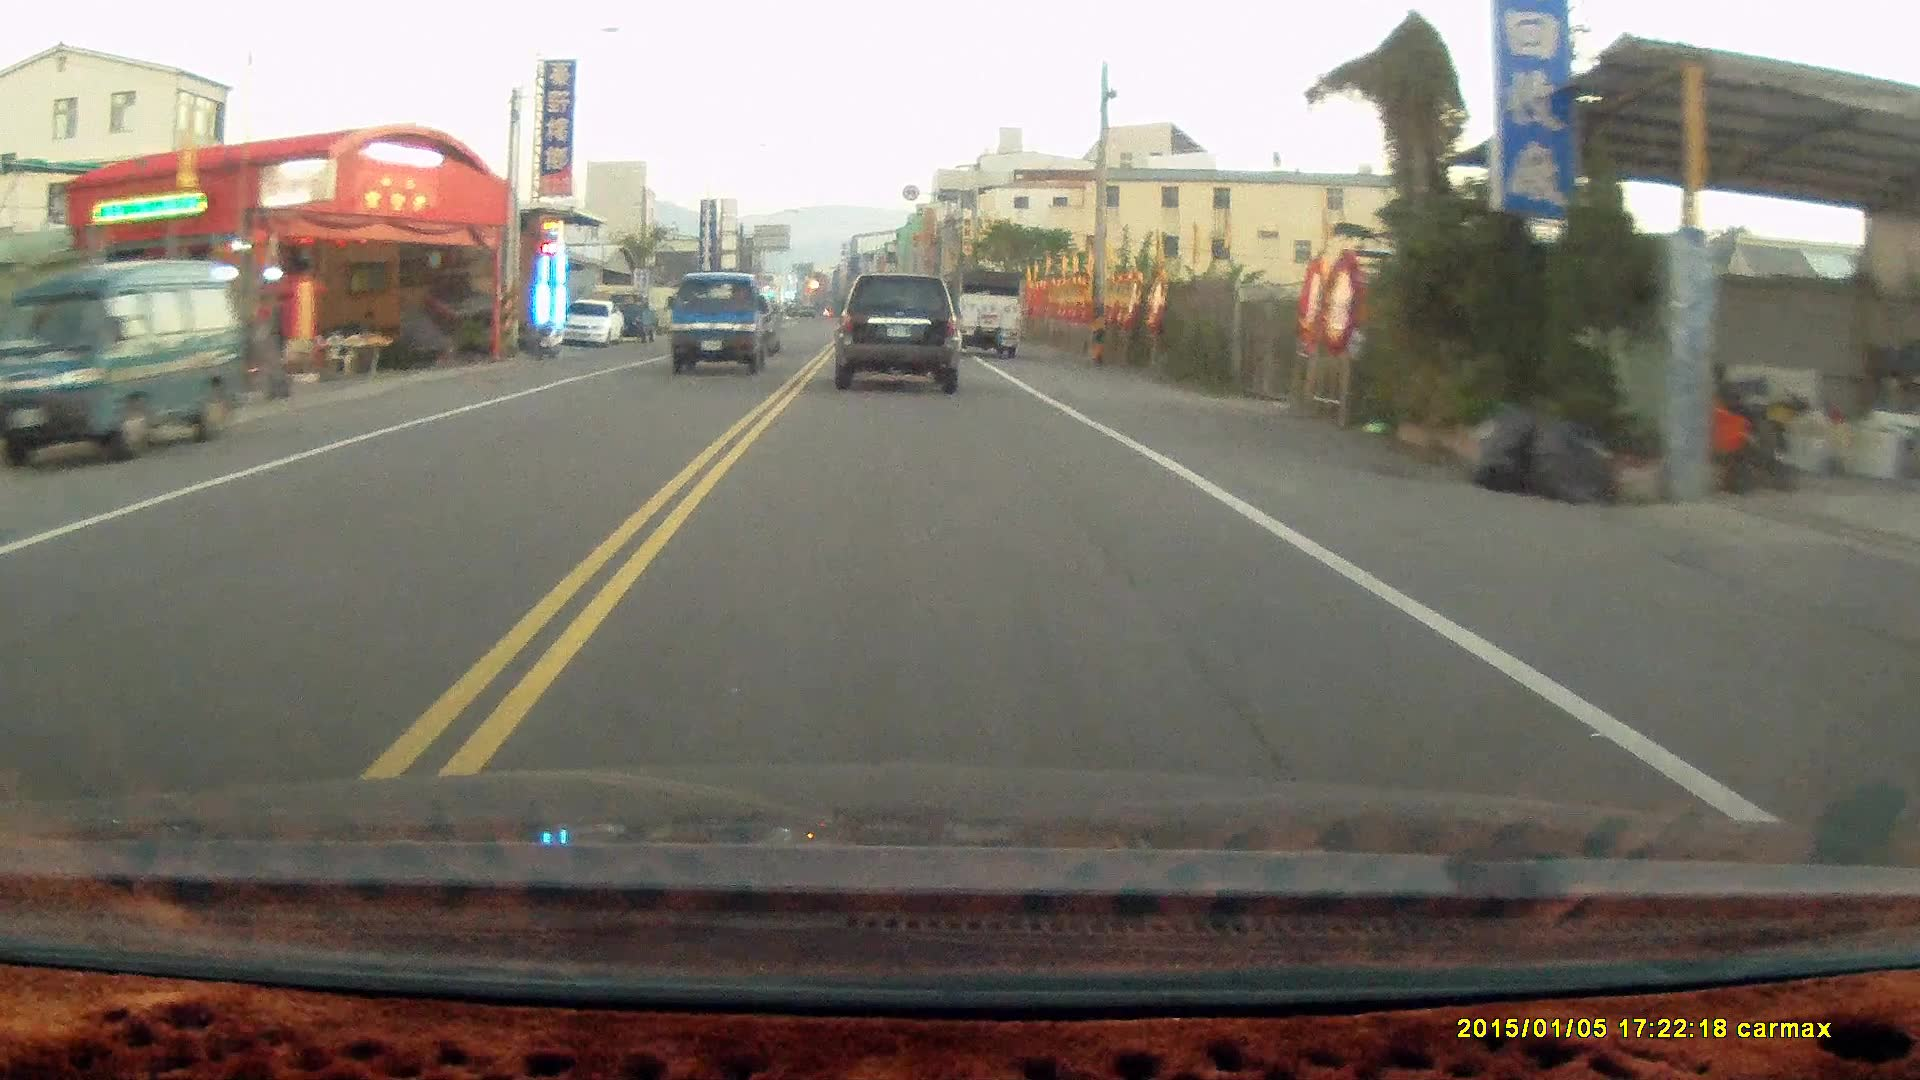vehicle: (12, 256, 253, 465), (840, 265, 973, 392), (667, 266, 785, 371), (939, 264, 1027, 357), (559, 301, 626, 345)
